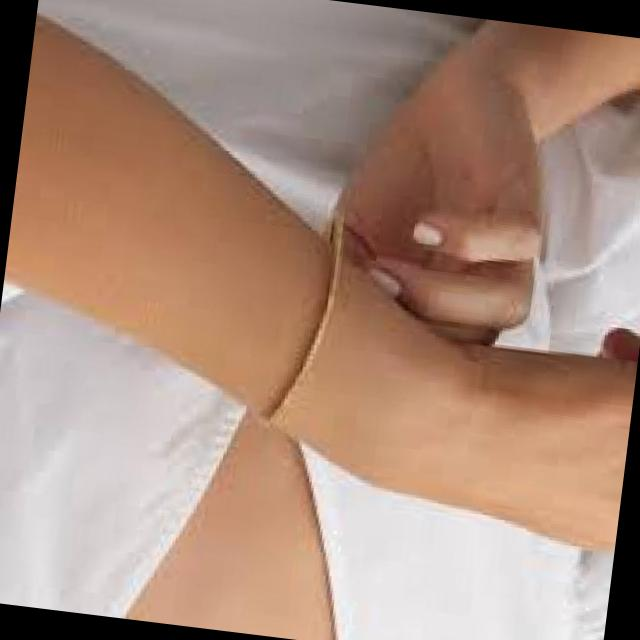Nail: (373, 268, 401, 293), (415, 222, 439, 243)
